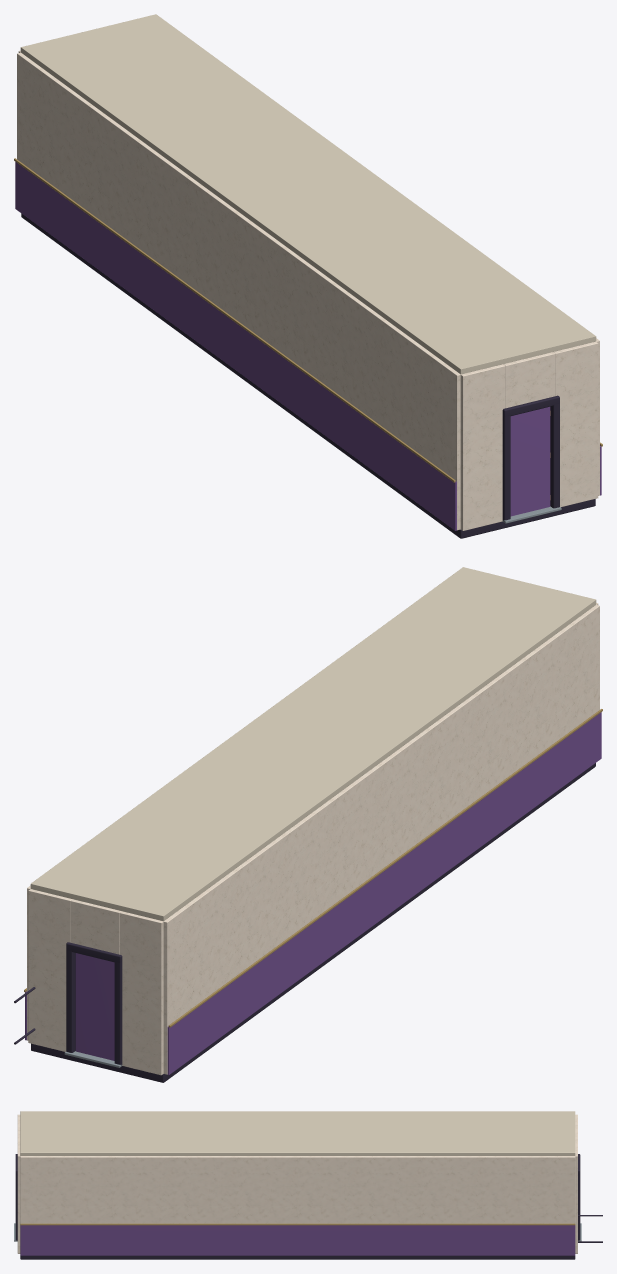
Rendered from staff_passage.glb.
The picture shows the model from 3 angles, top to bottom: view 1: azimuth 30°, elevation 25°; view 2: azimuth 150°, elevation 25°; view 3: azimuth 270°, elevation 25°; orthographic projection. The views are drawn at different scales.
Parts seen in each view (by area): view 1: ceiling.011, wall.030, lower_panel.029, wall.027, wall.026, front.018_leaf, staff_passage_floor, door_lintel.005, panel_rail.029, front.018_jamb, front.018_jamb.001; view 2: ceiling.011, wall.030, lower_panel.029, wall.028, wall.029, north.005_leaf, staff_passage_floor, door_lintel.006, panel_rail.029, north.005_jamb.001, north.005_jamb; view 3: wall.031, ceiling.011, lower_panel.030, staff_passage_floor, panel_rail.030, wall.026, wall.029.
Boxes of the visible parts, x1,y1,x2,y2 form: ceiling.011: (20,14,596,374); wall.030: (17,52,460,530); lower_panel.029: (15,162,456,530); wall.027: (460,364,505,530); wall.026: (553,341,598,507); front.018_leaf: (510,406,550,516); staff_passage_floor: (21,213,595,538); door_lintel.005: (503,352,555,408); panel_rail.029: (14,158,455,482); front.018_jamb: (550,400,559,508); front.018_jamb.001: (502,413,510,520); ceiling.011: (30,567,596,921); wall.030: (163,605,599,1074); lower_panel.029: (167,712,601,1074); wall.028: (119,911,163,1075); wall.029: (28,889,72,1051); north.005_leaf: (75,953,114,1060); staff_passage_floor: (31,763,595,1082); door_lintel.006: (70,899,121,954); panel_rail.029: (168,709,602,1027); north.005_jamb.001: (66,948,75,1052); north.005_jamb: (114,959,122,1065); wall.031: (20,1156,575,1223); ceiling.011: (20,1111,575,1155); lower_panel.030: (20,1225,575,1255); staff_passage_floor: (20,1255,575,1259); panel_rail.030: (20,1223,575,1225); wall.026: (17,1143,20,1253); wall.029: (575,1143,577,1253).
Size of the model in its own units: 3.52 by 3.84 by 19.11.
Materials: 8 (2 with a texture image).
